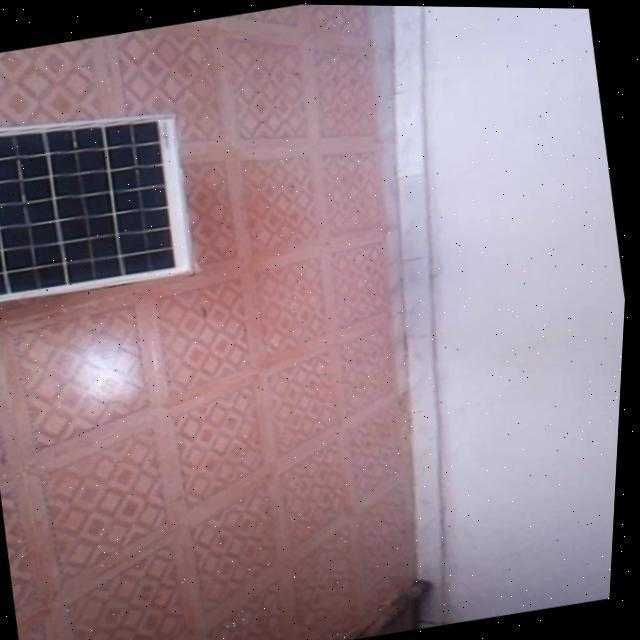Normal Solar Panel: (0, 92, 202, 305)
